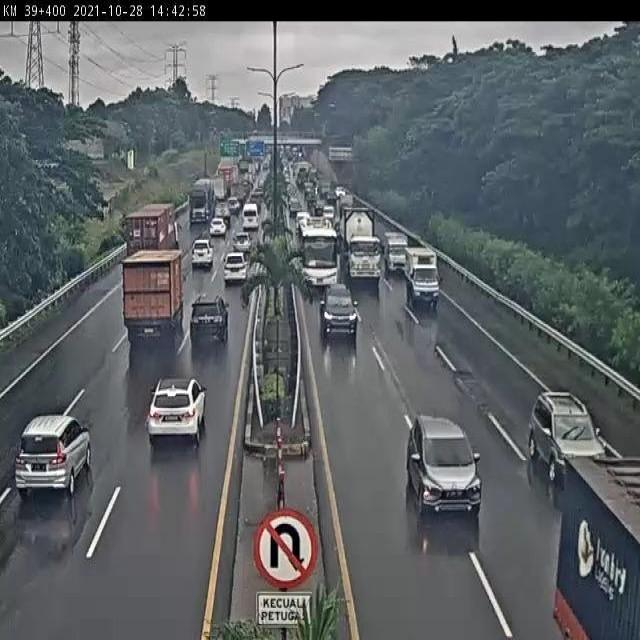big bus: (298, 216, 339, 292)
big truck: (120, 247, 177, 336), (338, 206, 381, 286), (130, 199, 182, 261)
car: (407, 414, 484, 522), (531, 389, 605, 492), (13, 415, 92, 497), (146, 376, 207, 445), (319, 280, 361, 344), (189, 293, 231, 344), (226, 245, 249, 279), (194, 233, 216, 267)
small truck: (409, 247, 448, 313), (386, 232, 415, 283)
